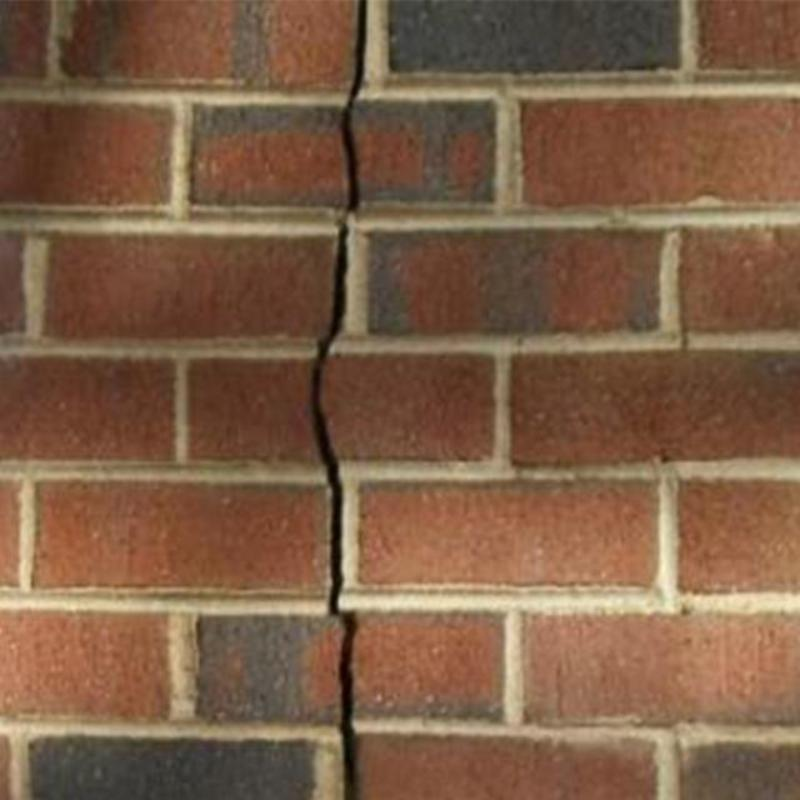crack: (309, 0, 366, 799)
